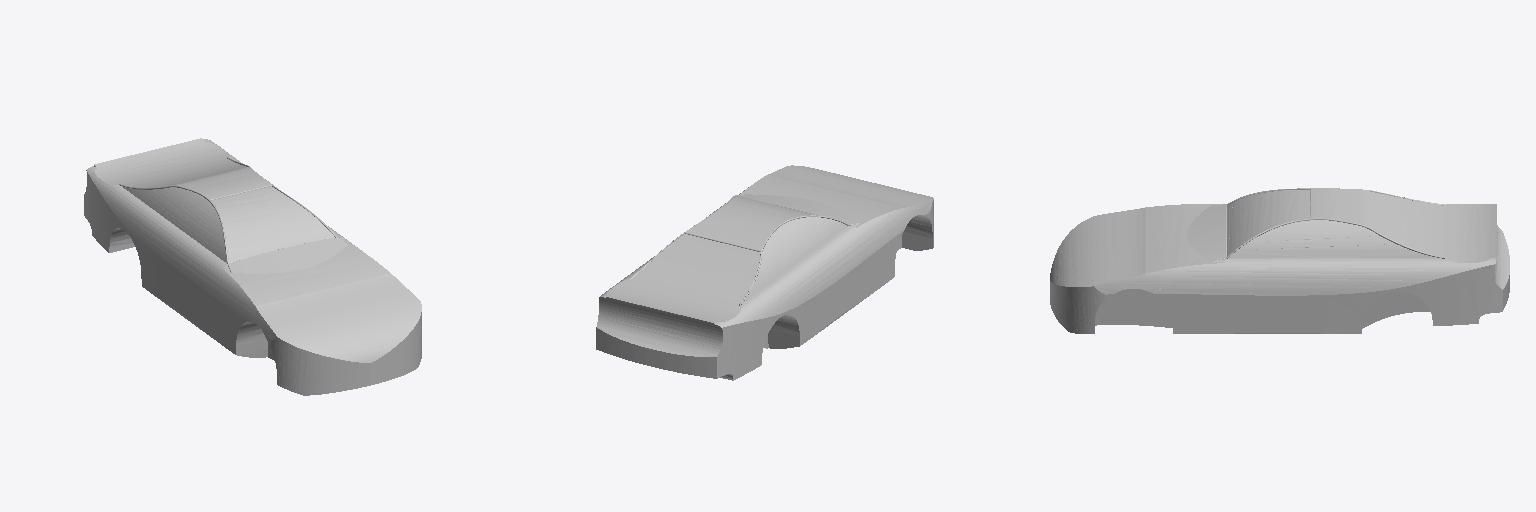
The model's file is part4.1_old.obj.
3 views of the same model, side by side, from view 1: azimuth 30°, elevation 25°; view 2: azimuth 150°, elevation 25°; view 3: azimuth 270°, elevation 25° (orthographic).
Bounding box in the file's own units: 0.5012 × 0.3423 × 1.36.